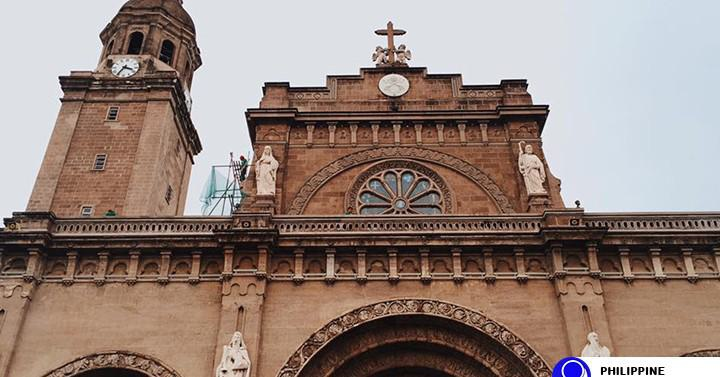manila_cathedral_church_intramuros_manila: (1, 1, 591, 377)
